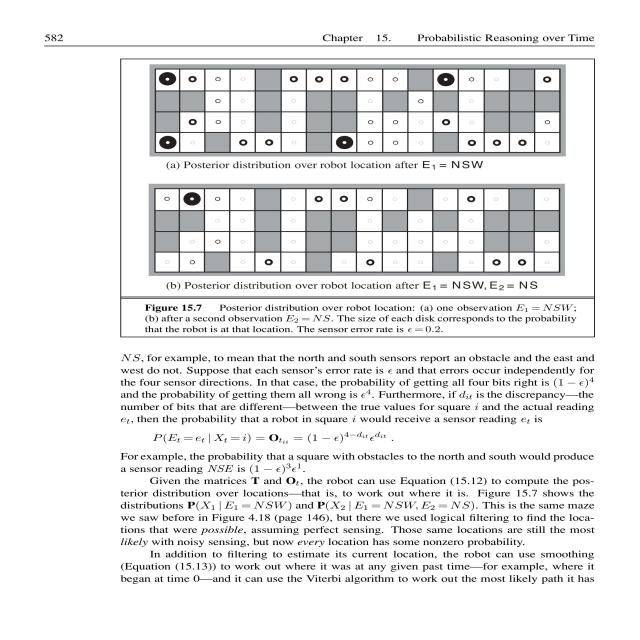diagram: (69, 54, 640, 352)
